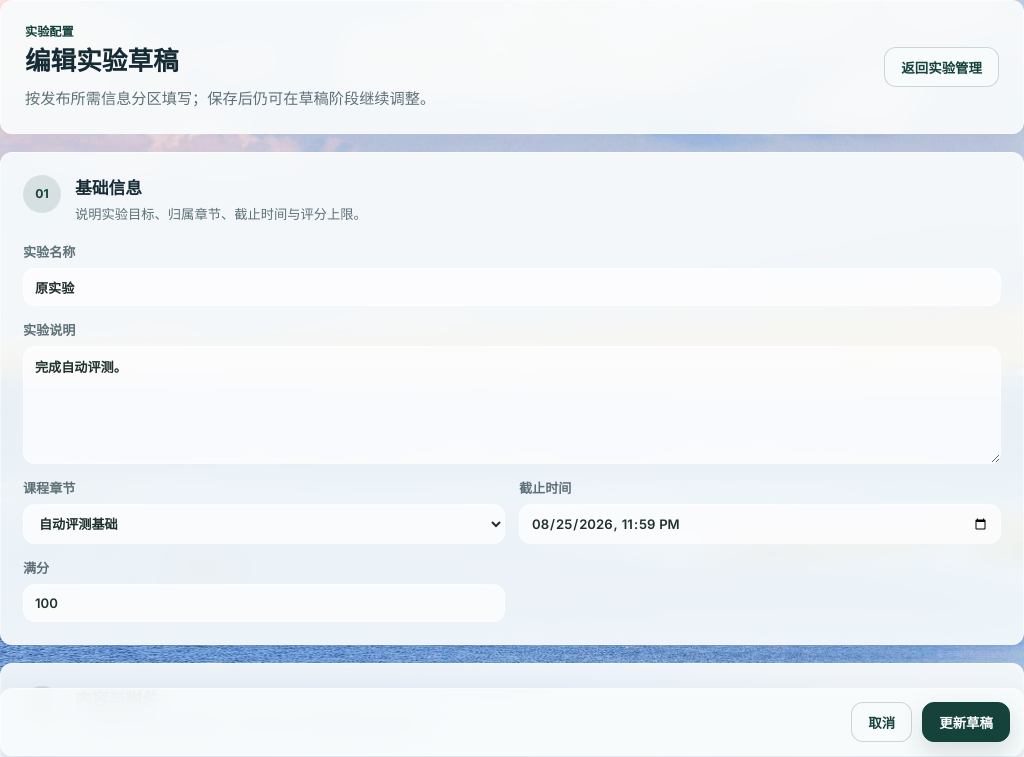
Test case: LabEditorView › loads and updates an existing draft without exposing raw resource identifiers
Replace the text in the field named "title" with "更新后的实验" at [512, 287], box [23,268,1001,306]
(page scrolled)
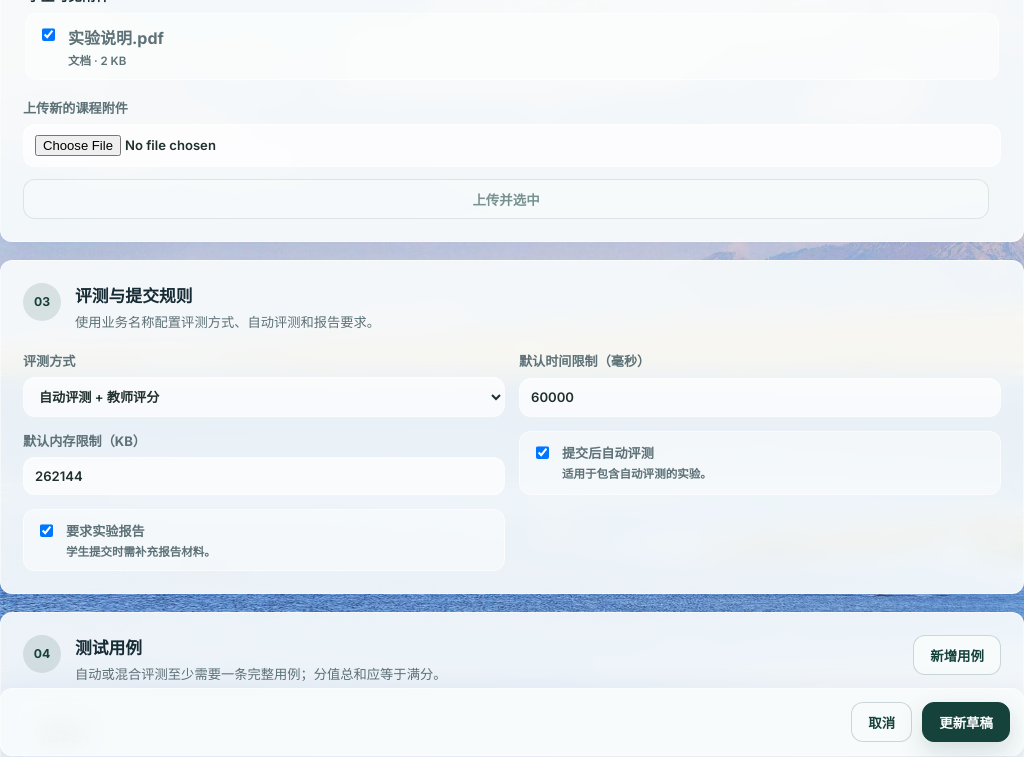
Submit the form with test id "lab-editor-form"
(page scrolled)
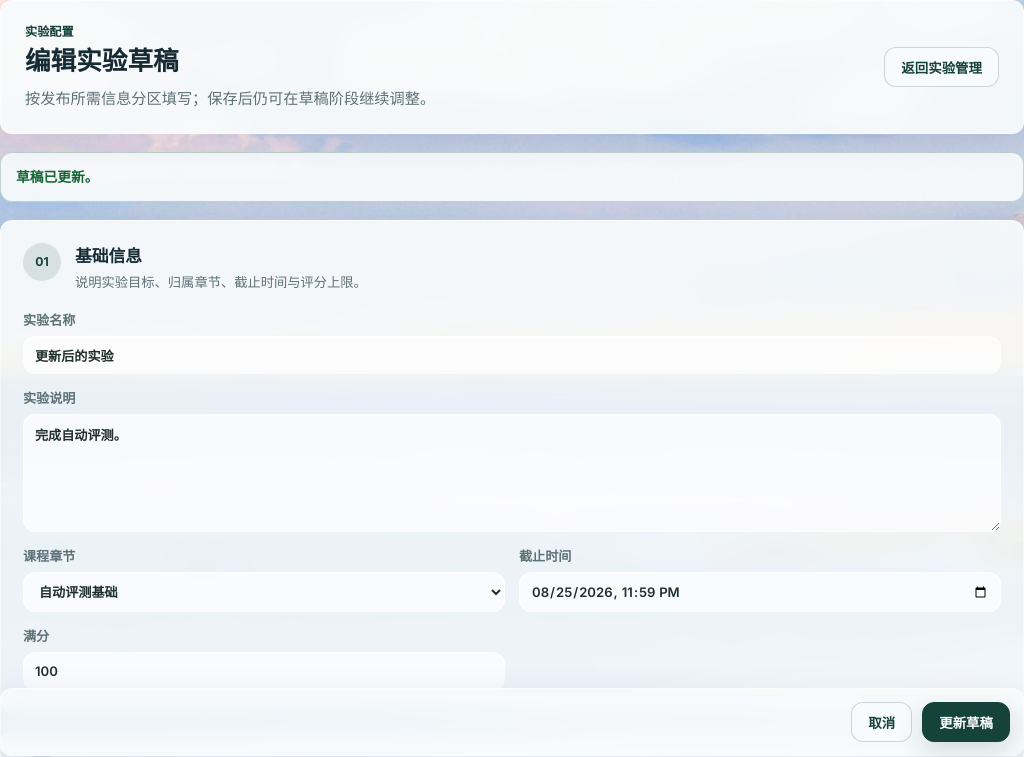
Expected: the message "草稿已更新。" is shown, [0,152,1023,202]
